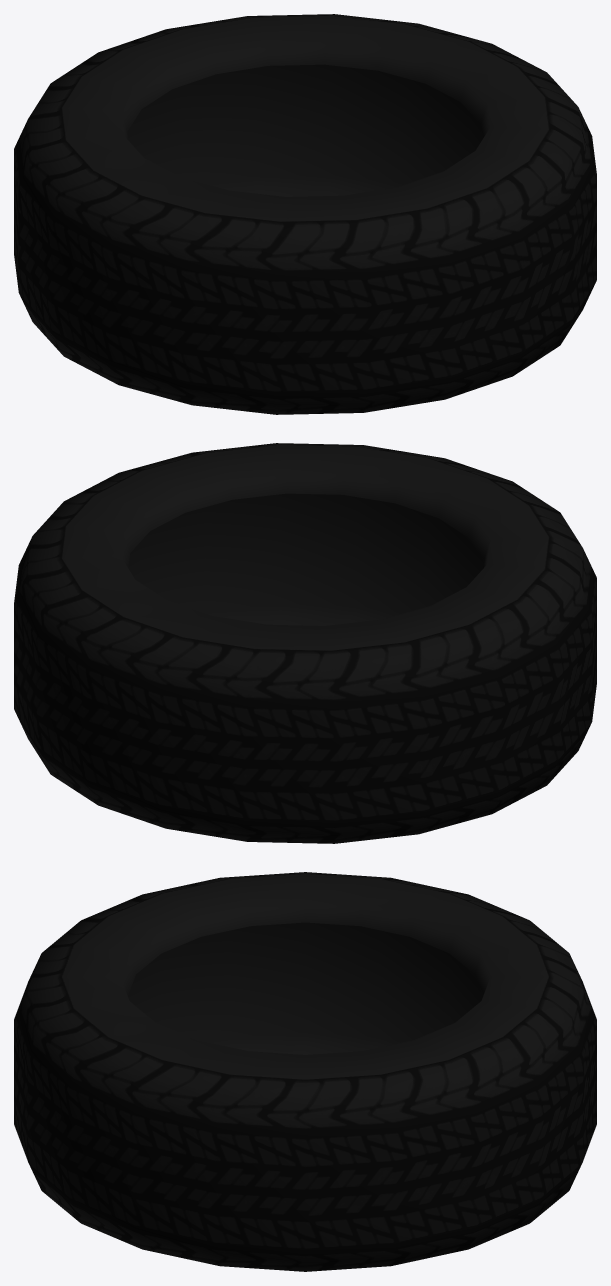
File: fbx_item_99_tire.fbx
The picture shows the model from 3 angles, top to bottom: view 1: azimuth 30°, elevation 25°; view 2: azimuth 150°, elevation 25°; view 3: azimuth 270°, elevation 25°; orthographic projection.
Visible parts, largest first — view 1: item_99_tire; view 2: item_99_tire; view 3: item_99_tire.
Part boxes in pixels (left/top/right/bottom): item_99_tire: left=14, top=14, right=596, bottom=414; item_99_tire: left=14, top=443, right=596, bottom=843; item_99_tire: left=14, top=872, right=596, bottom=1271.
Bounding box in the file's own units: 37.51 × 13.52 × 37.51.
